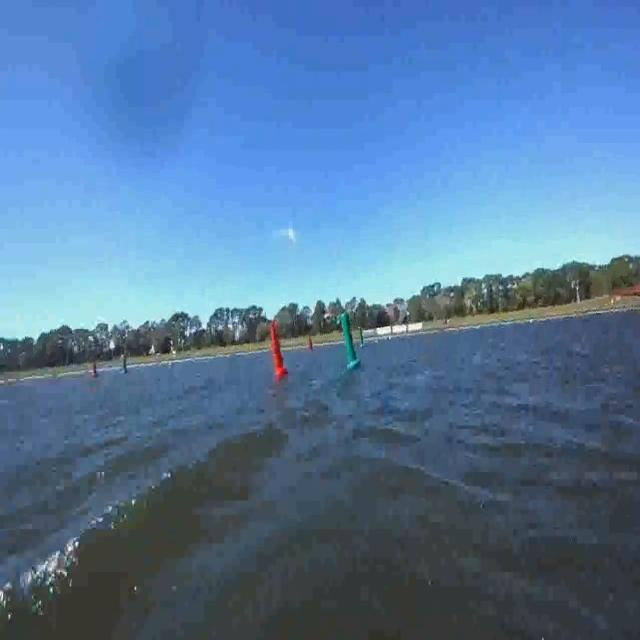green-column-buoy: (340, 312, 362, 370), (120, 353, 128, 374), (359, 329, 364, 345)
red-column-buoy: (269, 321, 289, 379), (92, 353, 101, 378), (306, 336, 312, 354)
